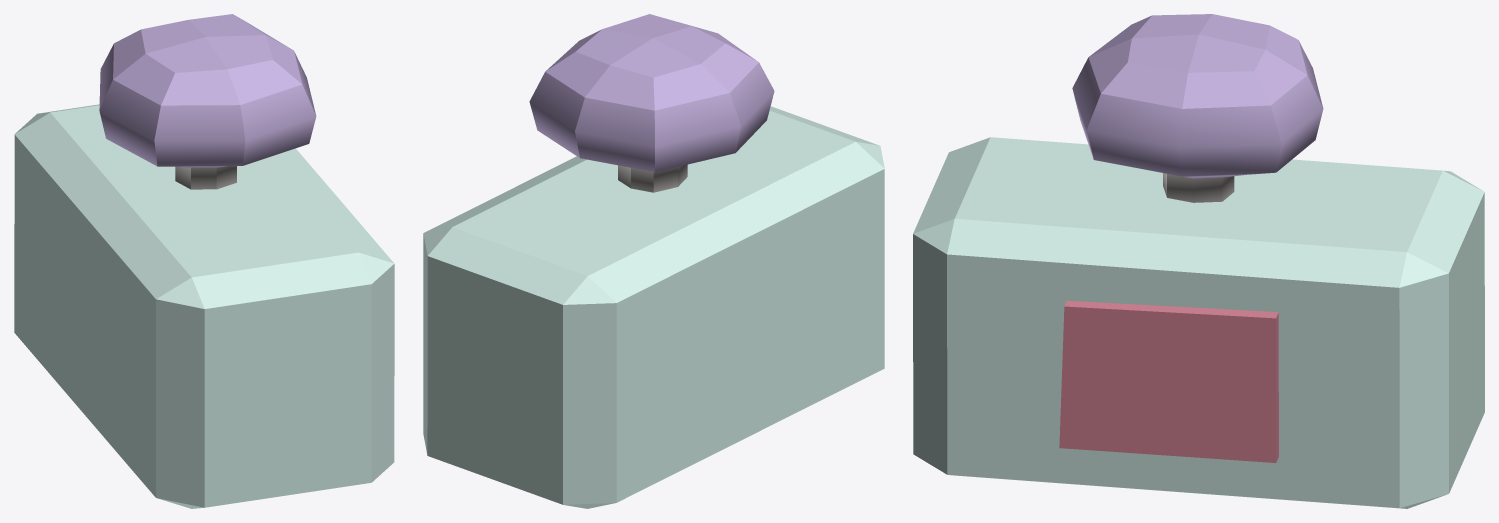
The model's file is Bedroom_2_Perfume_2.fbx.
3 views of the same model, side by side, from view 1: azimuth 30°, elevation 25°; view 2: azimuth 150°, elevation 25°; view 3: azimuth 270°, elevation 25° (orthographic). The views are drawn at different scales.
Parts seen in each view (by area): view 1: Bedroom_2_Perfume_2; view 2: Bedroom_2_Perfume_2; view 3: Bedroom_2_Perfume_2.
Boxes of the visible parts, x1,y1,x2,y2 form: Bedroom_2_Perfume_2: (14,14,394,508); Bedroom_2_Perfume_2: (423,14,884,508); Bedroom_2_Perfume_2: (913,14,1484,508).
Bounding box in the file's own units: 13.43 × 17.39 × 21.56.
